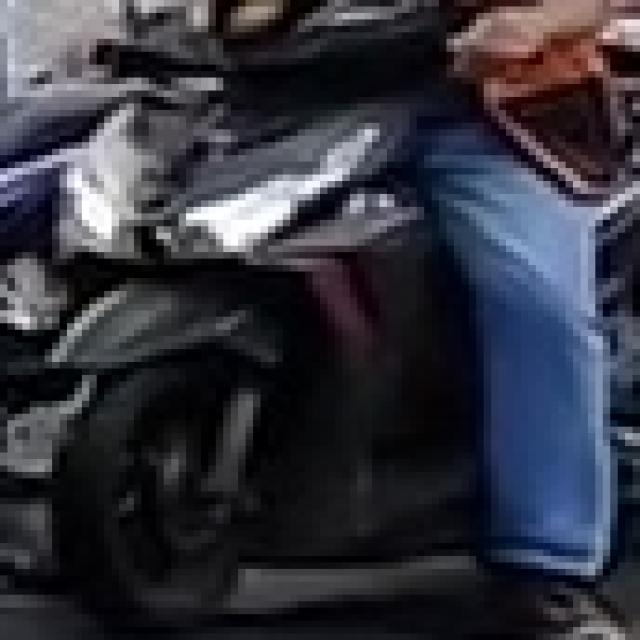door: (0, 0, 633, 634)
helmet: (201, 0, 446, 97)
tyre: (44, 356, 260, 627)
